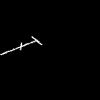double_crochet: (1, 37, 41, 54)
